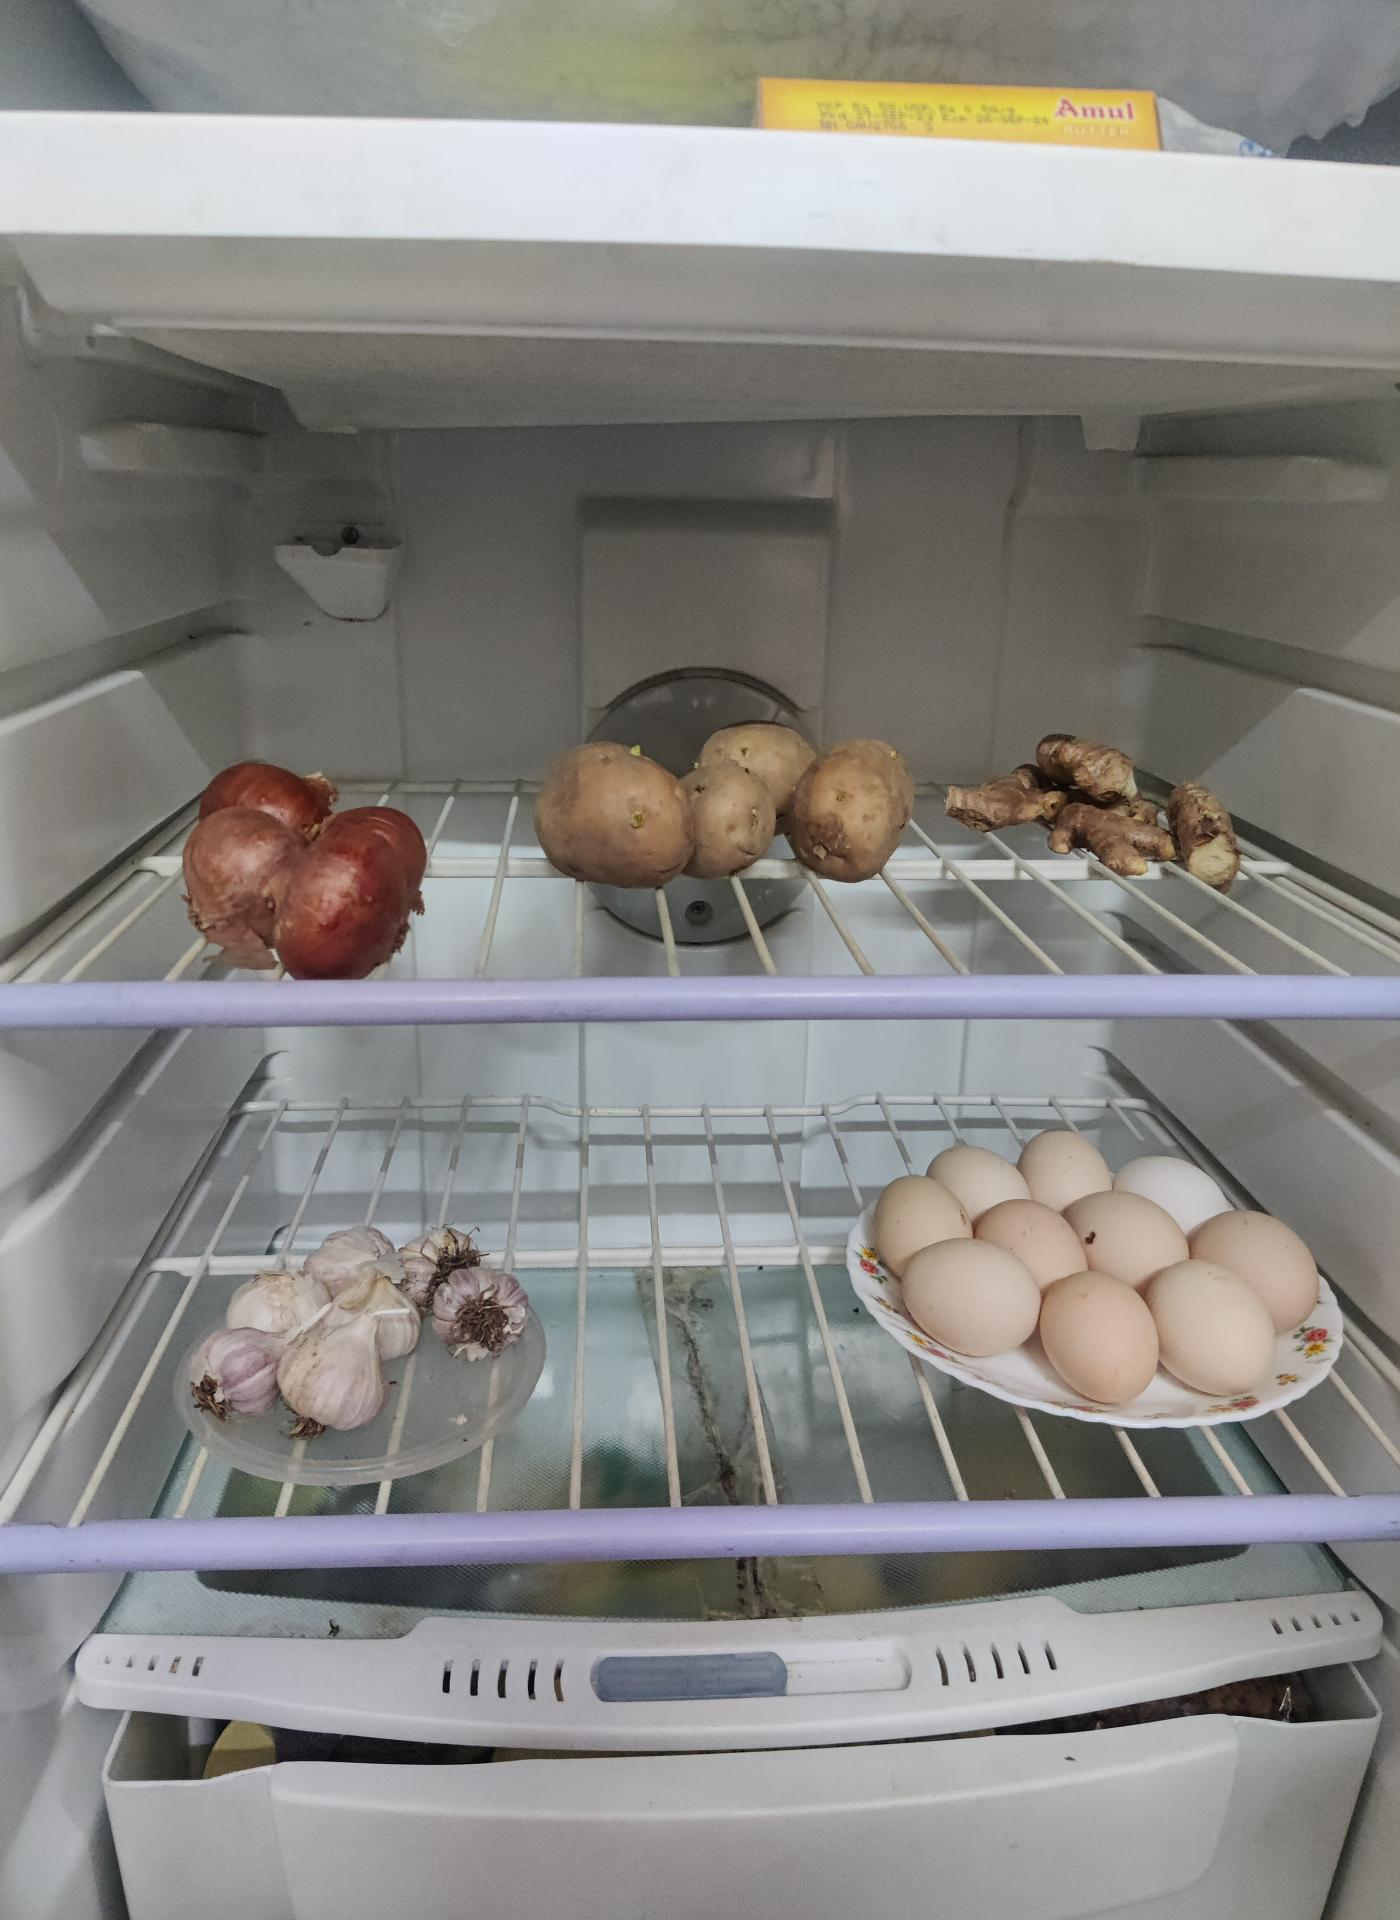egg: (862, 1130, 1328, 1415)
garlic: (197, 1216, 516, 1437)
ginger: (947, 730, 1248, 881)
onion: (182, 756, 431, 978)
potato: (538, 721, 923, 890)
